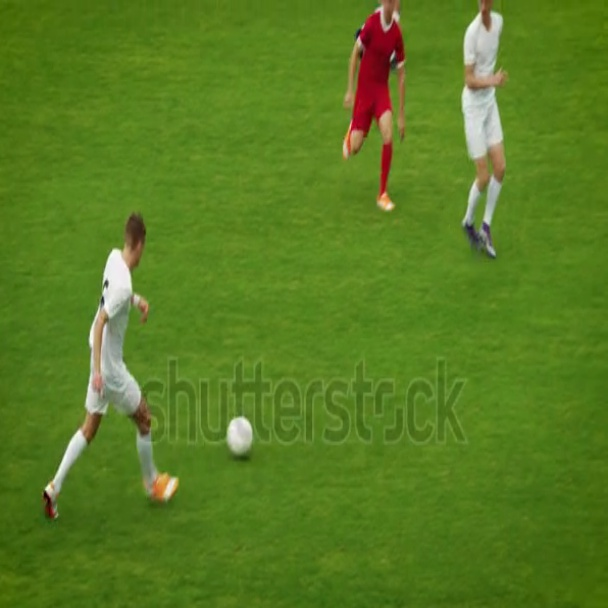ball: (223, 413, 255, 462)
